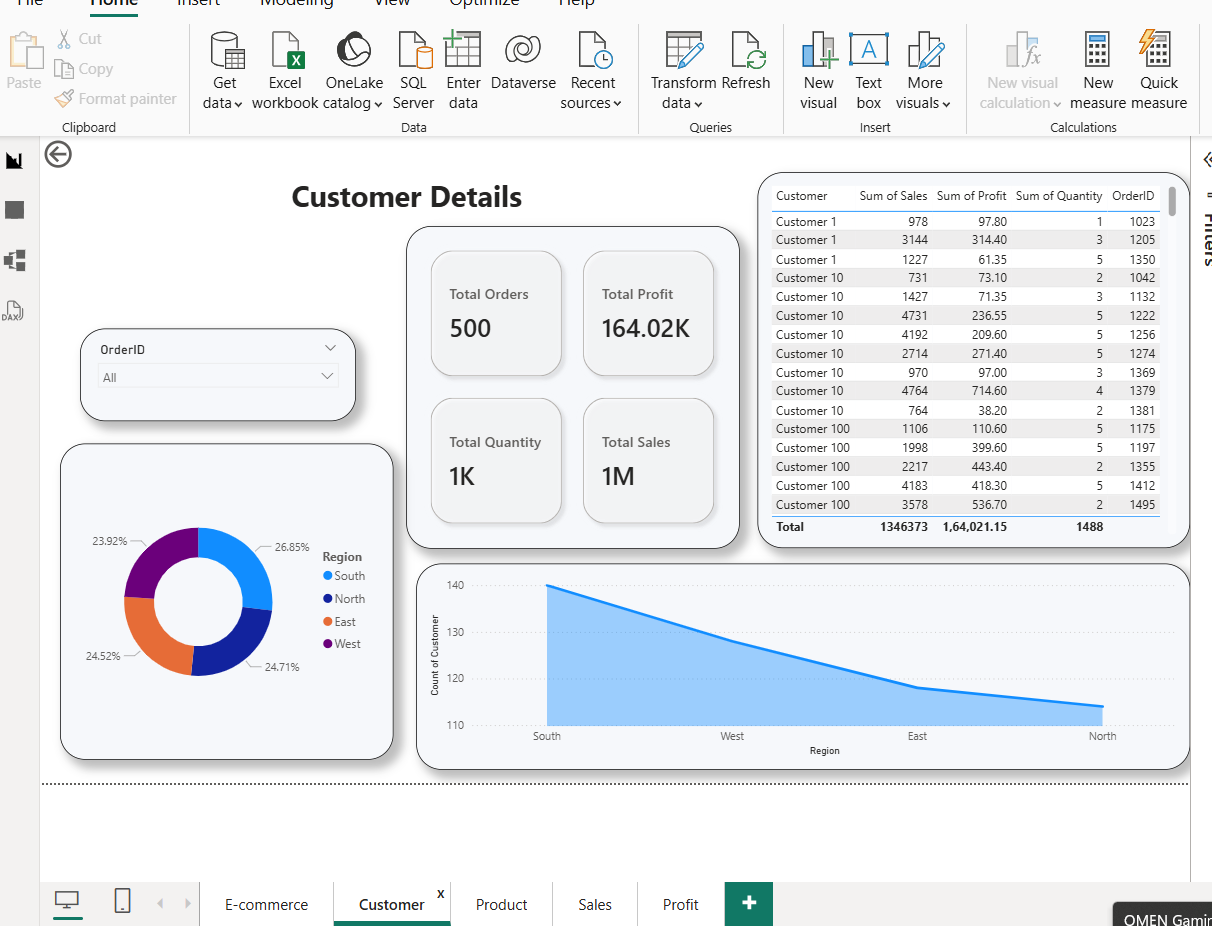

This screenshot's page, from the dashboard's own definition file:
{"tool":"powerbi","page":{"name":"Customer","canvas":[1280,720],"ordinal":1},"visuals":[{"type":"tableEx","fields":{"Values":["Orders.Customer","Sum(Orders.Sales)","Sum(Orders.Profit)","Sum(Orders.Quantity)","Orders.OrderID"]},"box":[798.5,100.3,459.8,358.3],"z":0},{"type":"textbox","box":[486.7,9.8,333.8,59.9],"z":1000},{"type":"actionButton","box":[0,0,44,40.4],"z":2000},{"type":"cardVisual","fields":{"Data":["Orders.Total Orders","Orders.Total Profit","Orders.Total Quantity","Orders.Total Sales"]},"box":[407.7,100.2,371.5,359],"z":3000},{"type":"stackedAreaChart","fields":{"Y":["CountNonNull(Orders.Customer)"],"Category":["Orders.Region"]},"box":[418.2,475.7,840.1,229.9],"z":4000},{"type":"slicer","fields":{"Values":["Orders.OrderID"]},"box":[31.8,228.7,362,102.7],"z":5000},{"type":"donutChart","fields":{"Y":["Orders.Profit Margin %"],"Category":["Orders.Region"]},"box":[22.3,342.3,371.5,352],"z":6000},{"type":"slicer","fields":{"Values":["Orders.Payment"]},"box":[41.6,114.9,352.2,100.3],"z":7000}]}

Visuals, with their boxes in screenshot pixels (x1, y1, x2, y2):
tableEx - Orders.Customer x Sum(Orders.Sales): [757, 220, 1171, 542]
textbox: [476, 138, 777, 192]
actionButton: [38, 129, 78, 166]
cardVisual - Orders.Total Orders x Orders.Total Profit: [405, 220, 740, 543]
stackedAreaChart - CountNonNull(Orders.Customer) x Orders.Region: [415, 558, 1171, 765]
slicer - Orders.OrderID: [67, 335, 393, 428]
donutChart - Orders.Profit Margin % x Orders.Region: [58, 438, 393, 755]
slicer - Orders.Payment: [75, 233, 393, 323]
